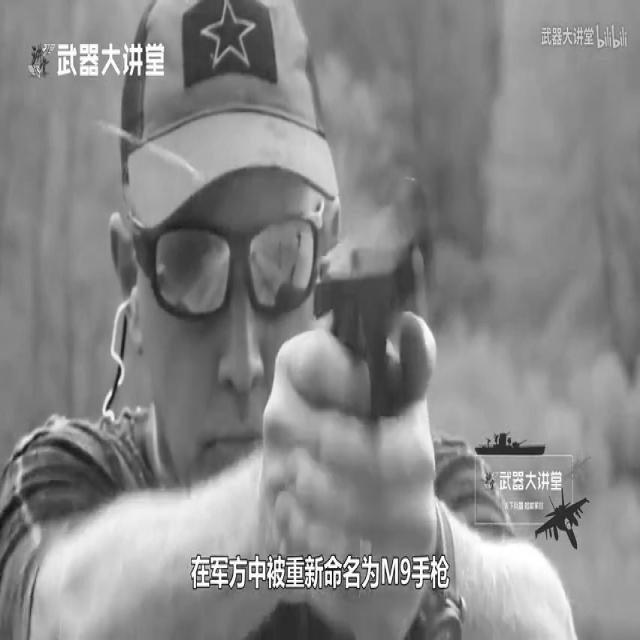Hand-Gun: (318, 190, 435, 462)
